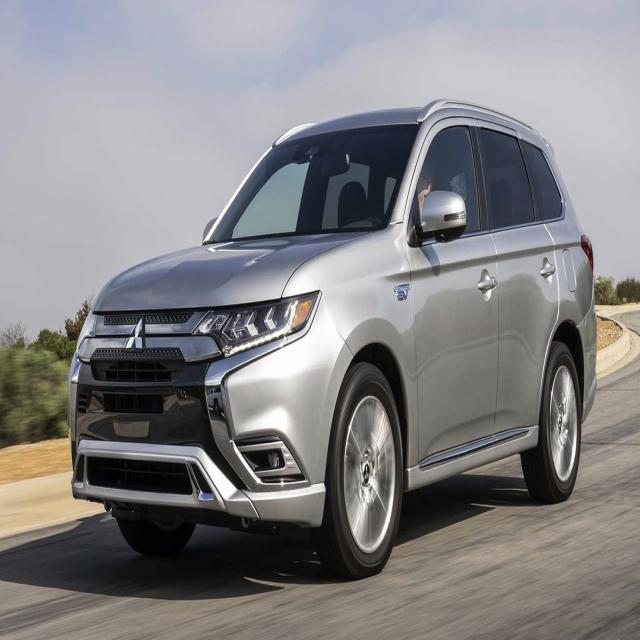light_vehicle: (68, 101, 598, 579)
